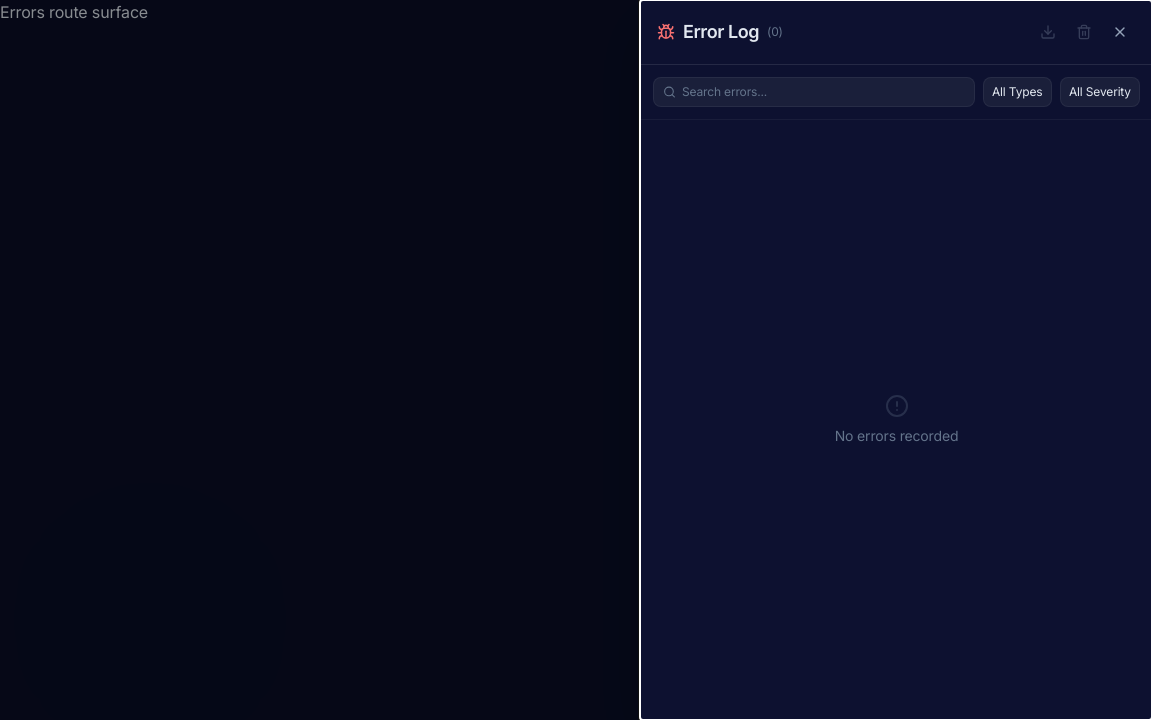
Scenario: Layout mobile overlay ownership › opens the error log for a direct /errors route and closes back to the dashboard
The image size is (1152, 720).
Check: the text "Errors route surface" is shown, box [0,2,148,22]
What coordinates should you click on to do the following:
click the button named "Close error log"
I would click on:
 (1120, 32)
Its box is [1104,16,1136,48].
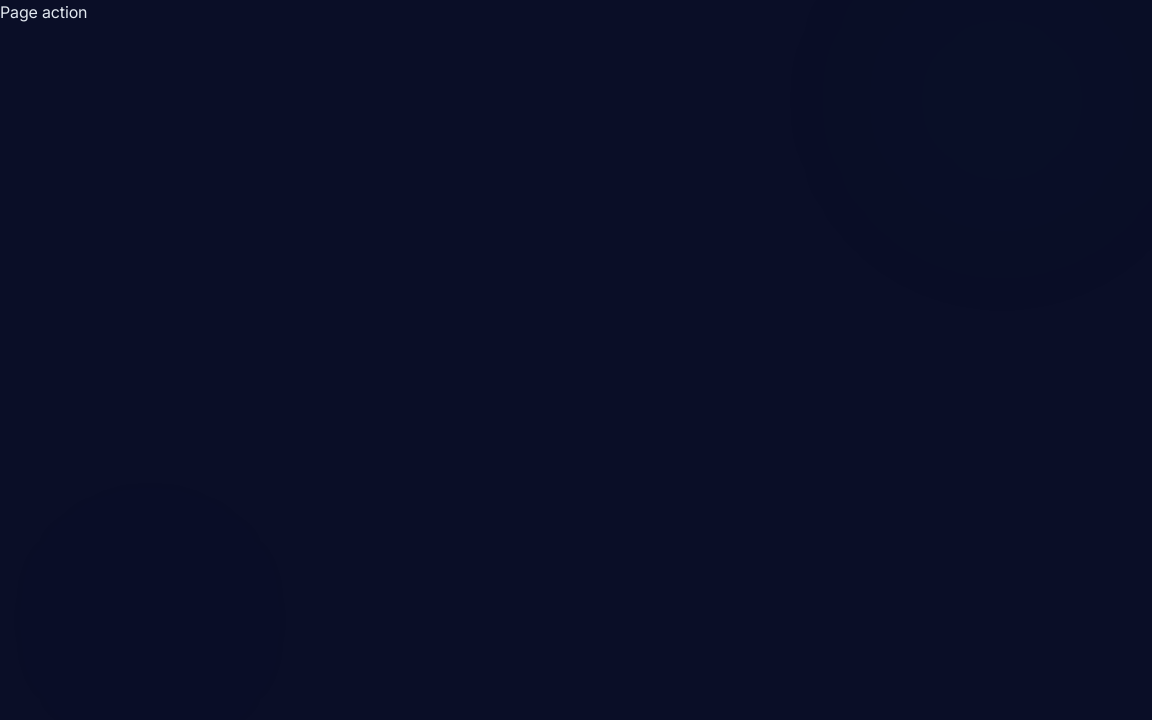
Check: the heading "Error Log" is gone
Check: the button "Page action" is shown, box [0,0,87,24]
